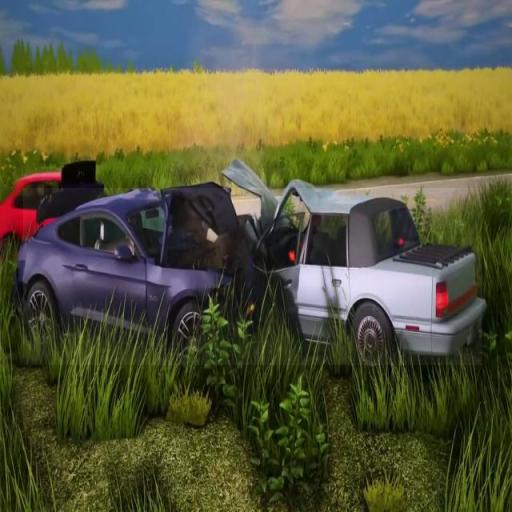小汽车撞小汽车: (23, 188, 482, 365)
